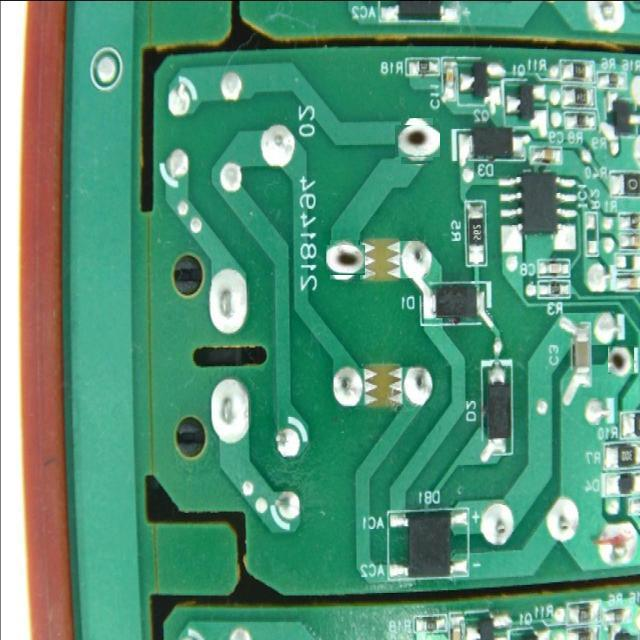damged: (398, 122, 437, 160), (328, 242, 363, 278), (608, 346, 634, 374)
